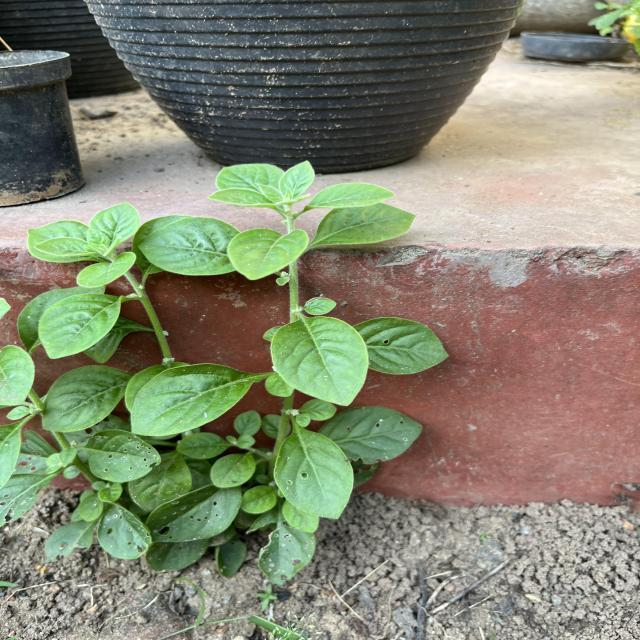Aerva lanata: (128, 362, 260, 438), (268, 314, 371, 408), (135, 214, 244, 278), (35, 292, 136, 361), (224, 226, 312, 282)
